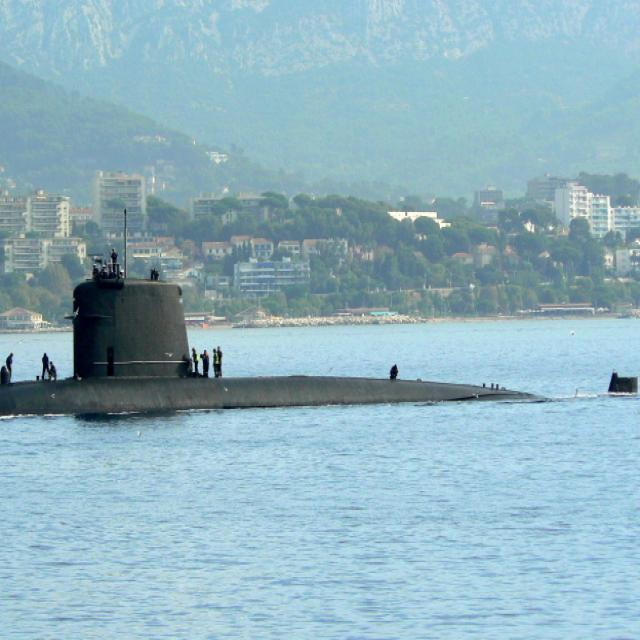submarine: (1, 220, 640, 424)
